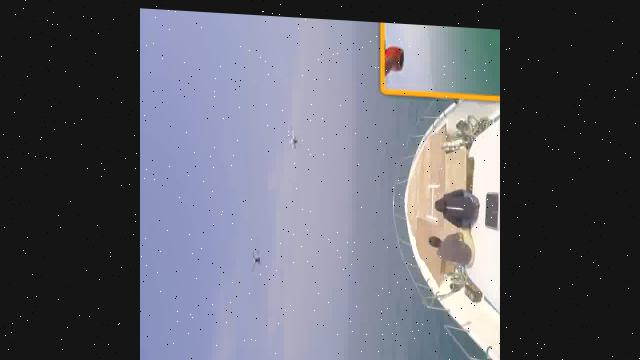drone: (248, 240, 268, 272), (284, 118, 302, 147)
